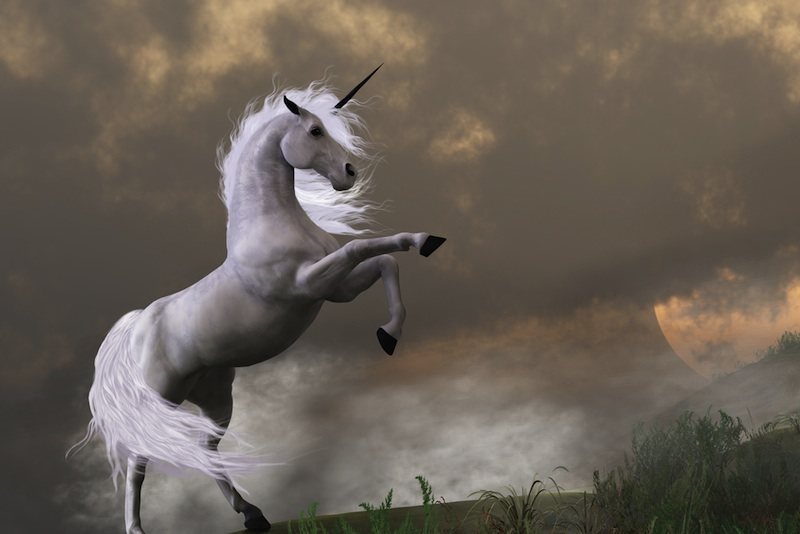background: (67, 57, 453, 531)
